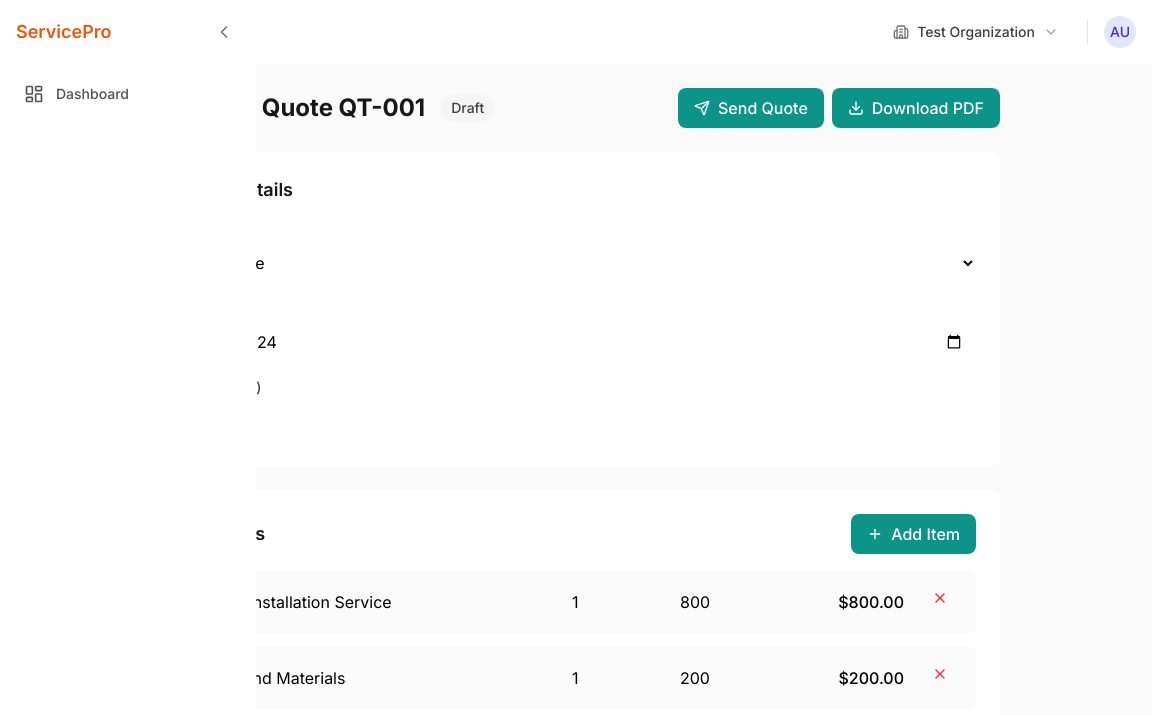
Test case: Quote Workflow Integration › Quote Status Transitions › sends a draft quote and shows the status the API returned
Click the button "Send Quote": coordinates (751, 108) [678,88,824,128]
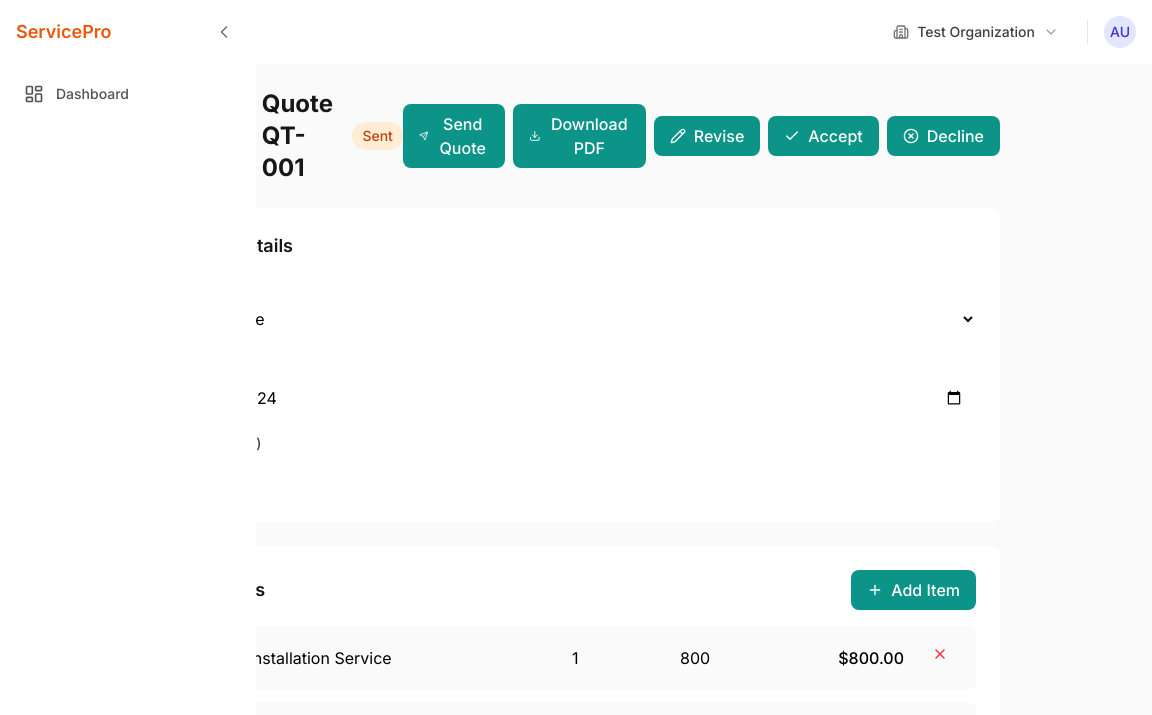
expect the text "Sent" is shown: met, box [352,122,403,150]
expect the button "Send Quote" is disabled: met, box [403,104,505,168]
